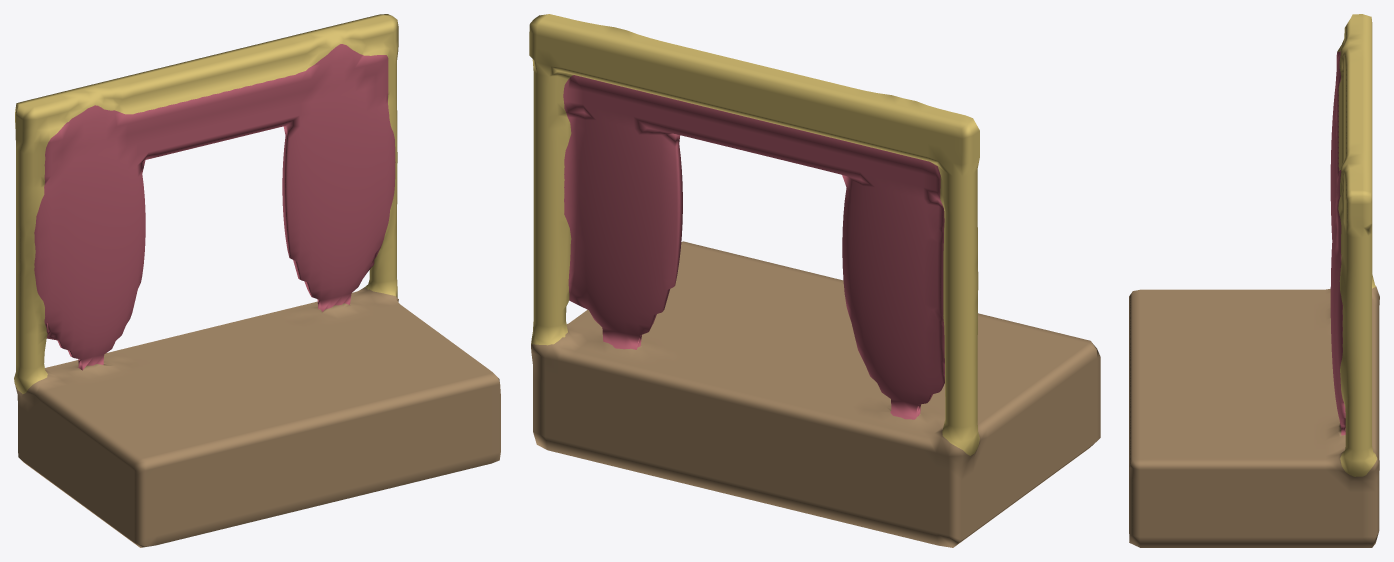
The model's file is stage.glb.
3 renders of one model, left to right at view 1: azimuth 30°, elevation 25°; view 2: azimuth 150°, elevation 25°; view 3: azimuth 270°, elevation 25°, orthographic. The views are drawn at different scales.
Parts seen in each view (by area): view 1: stage; view 2: stage; view 3: stage.
Boxes of the visible parts, x1=… form: stage: x1=14, y1=14, x2=500, y2=547; stage: x1=529, y1=14, x2=1100, y2=547; stage: x1=1129, y1=14, x2=1379, y2=547.
Bounding box in the file's own units: 124 × 114 × 72.19.
